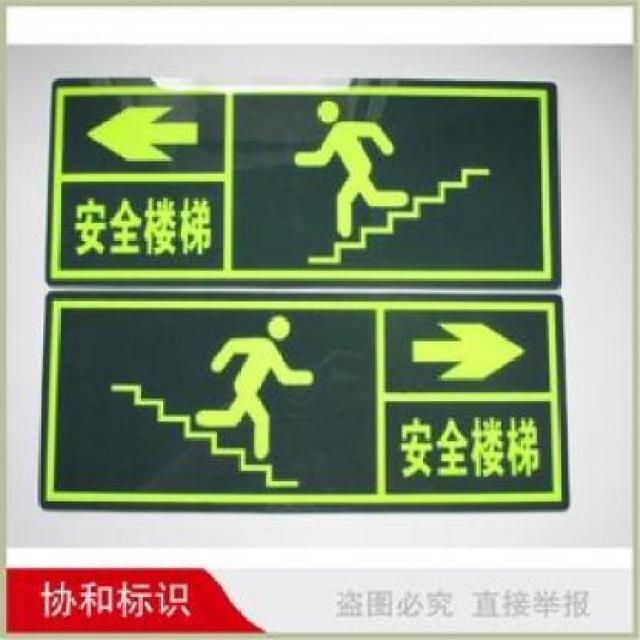exit_sign: (36, 66, 572, 519)
